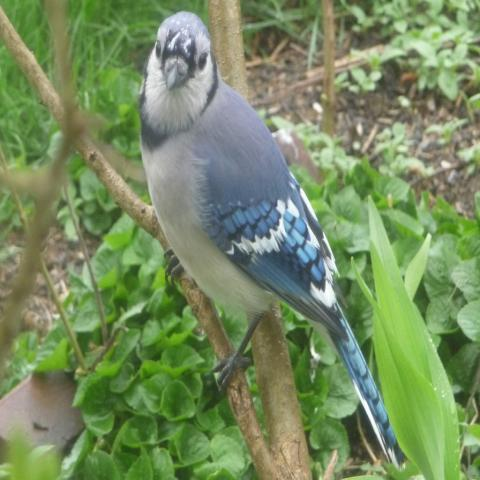bird: (135, 9, 409, 470)
